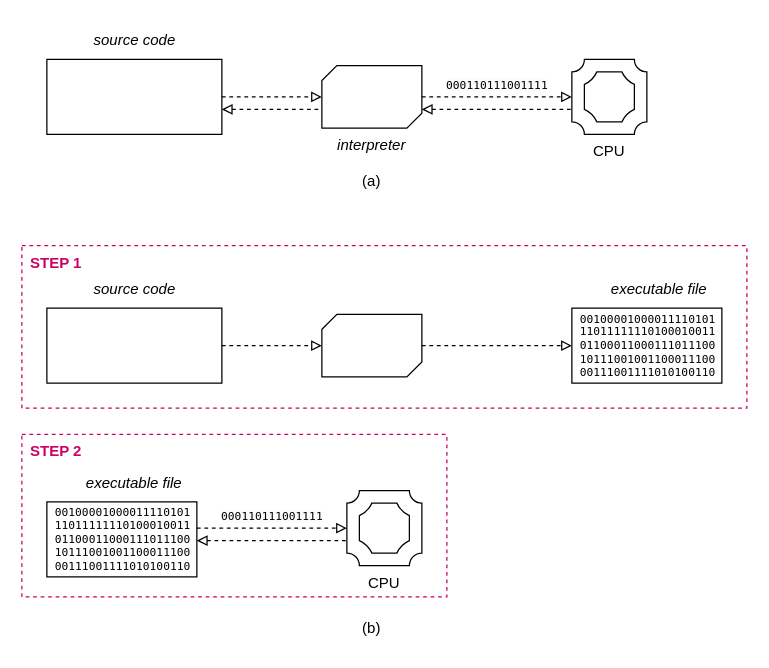
This 769x668 diagram has some shape labels left out. The centre of each missing label's shape, as x and y in pixels:
compiler: the point at 371,345
int a = 1 ; int b = 2 ; printf("%d", a + b);: the point at 134,345
let a = 1 ; let b = 0 ; alert(a > b ? a : b);: the point at 134,96
